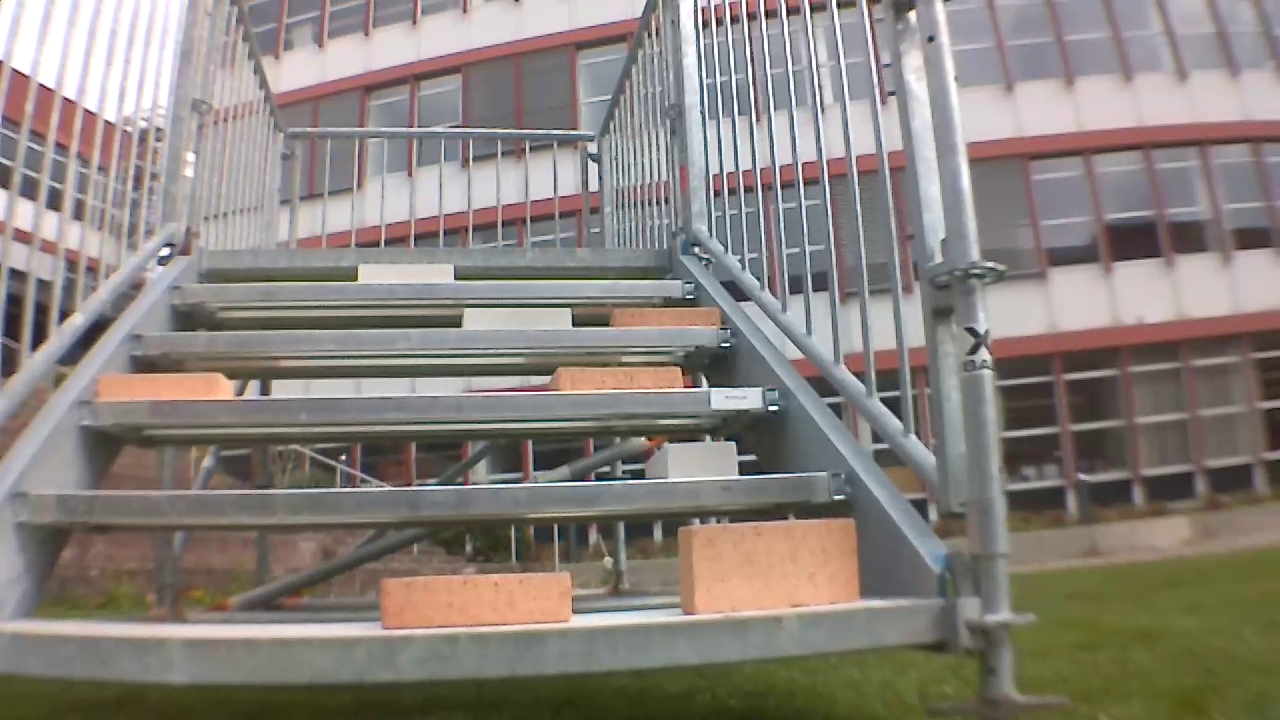brick: (679, 522, 872, 617), (372, 575, 576, 633), (544, 362, 684, 399), (648, 443, 749, 486), (90, 367, 230, 398), (440, 303, 571, 333), (600, 304, 727, 333), (355, 261, 454, 285)
edge: (0, 599, 951, 681), (9, 470, 858, 531), (66, 382, 793, 435), (113, 329, 741, 360), (160, 276, 697, 312), (199, 247, 671, 270)
stairs: (0, 0, 1009, 705)
steps: (0, 234, 969, 692)
